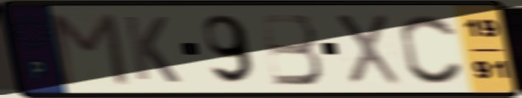9: (201, 12, 256, 87)
B: (257, 11, 327, 88)
C: (397, 12, 467, 87)
K: (120, 13, 184, 86)
M: (48, 10, 133, 88)
X: (330, 11, 405, 87)
